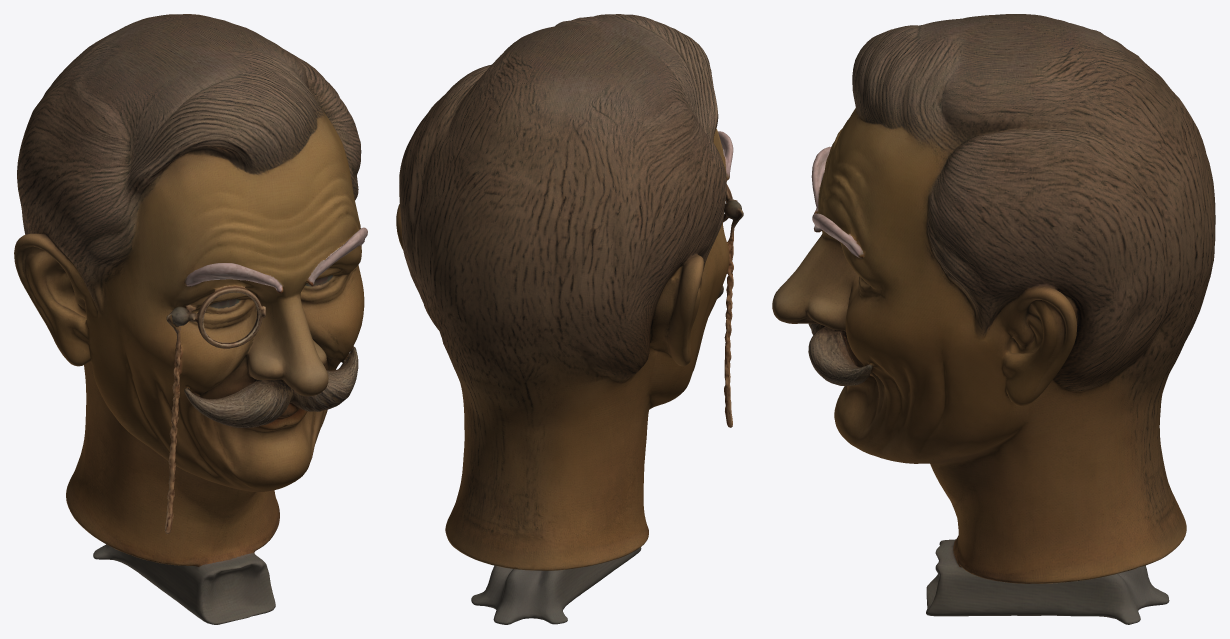
Rendered from cavalheiro__s2026.glb.
3 views of the same model, side by side, from view 1: azimuth 30°, elevation 25°; view 2: azimuth 150°, elevation 25°; view 3: azimuth 270°, elevation 25° (orthographic). The views are drawn at different scales.
Bounding box in the file's own units: 0.5947 × 1 × 0.7048.
1 material, 1 textured.
